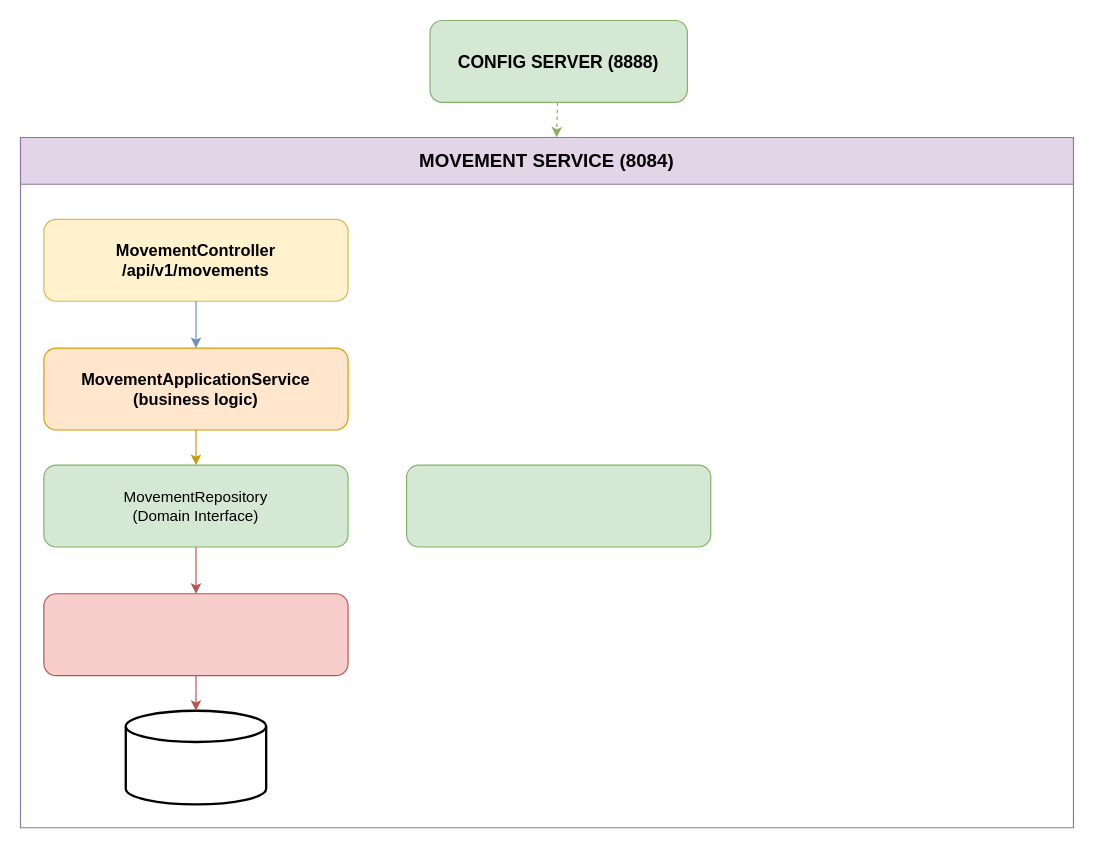
Image size: 1094x848. Some labels were removed from this diagram. Each missing label, with the centre of its shape:
"MongoDB movements collection" goes at point 195,757.
"MongoMovementRepository (implements MovementRepository)" goes at point 195,634.
"Movement Model" goes at point 558,505.
